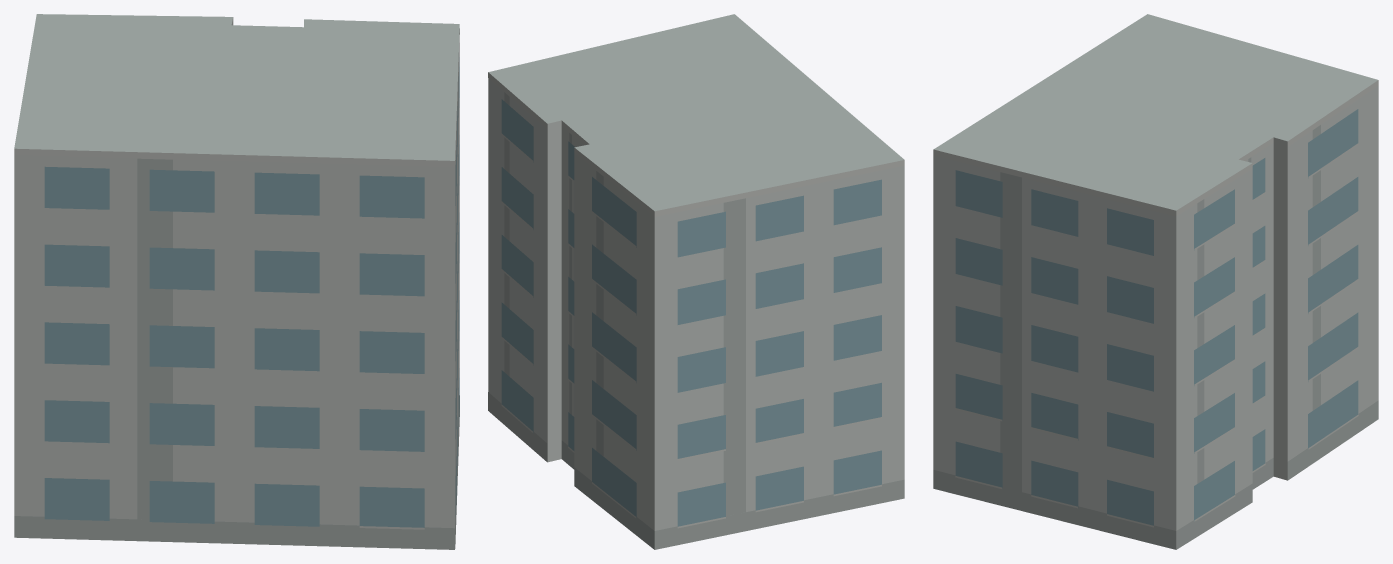
File: survey-upis-32891173.glb
3 renders of one model, left to right at view 1: azimuth 30°, elevation 25°; view 2: azimuth 150°, elevation 25°; view 3: azimuth 270°, elevation 25°, orthographic. The views are drawn at different scales.
Parts seen in each view (by area): view 1: survey-upis-32891173.tmp; view 2: survey-upis-32891173.tmp; view 3: survey-upis-32891173.tmp.
Boxes of the visible parts, x1,y1,x2,y2 form: survey-upis-32891173.tmp: (14, 14, 459, 549); survey-upis-32891173.tmp: (488, 14, 904, 549); survey-upis-32891173.tmp: (933, 14, 1378, 549).
Bounding box in the file's own units: 17.91 × 14.4 × 17.13.
